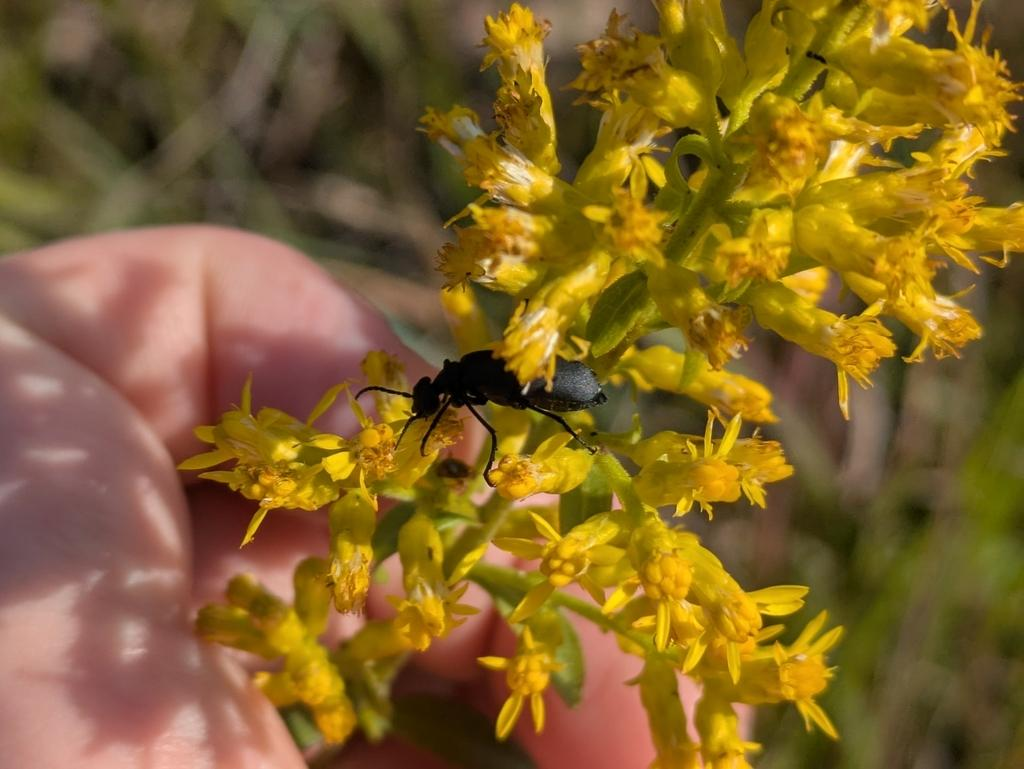blister_beetle: (334, 296, 643, 507)
